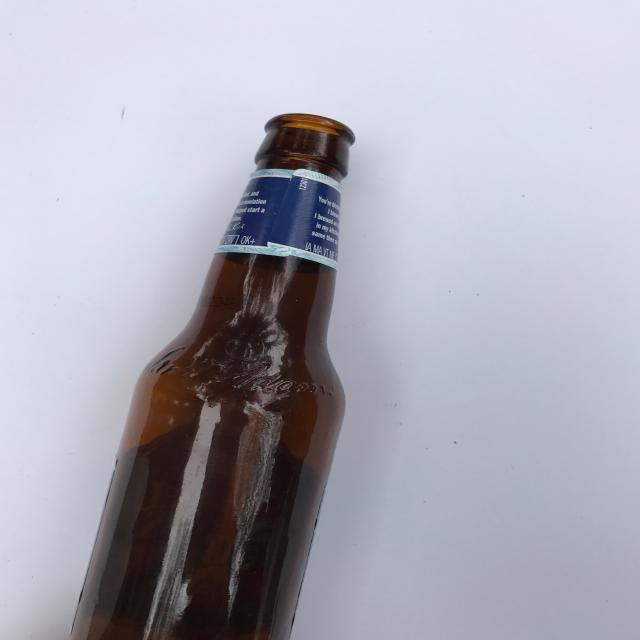glass: (67, 112, 356, 640)
